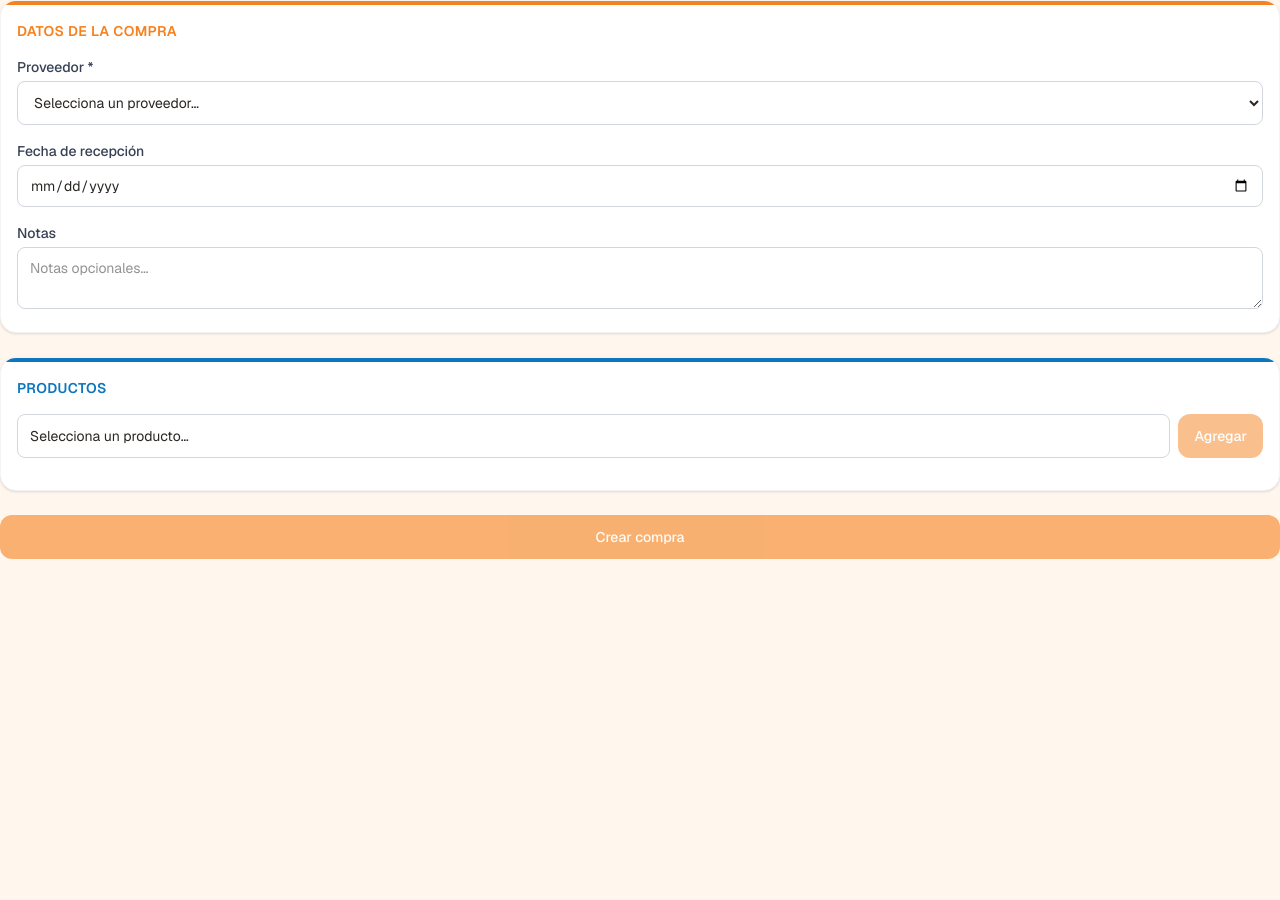
Scenario: PurchaseBuilder — add product › adds a row with product name when Agregar is clicked
Click the button with aria-label "agregar producto" at (109, 436), box [17,414,1170,458]
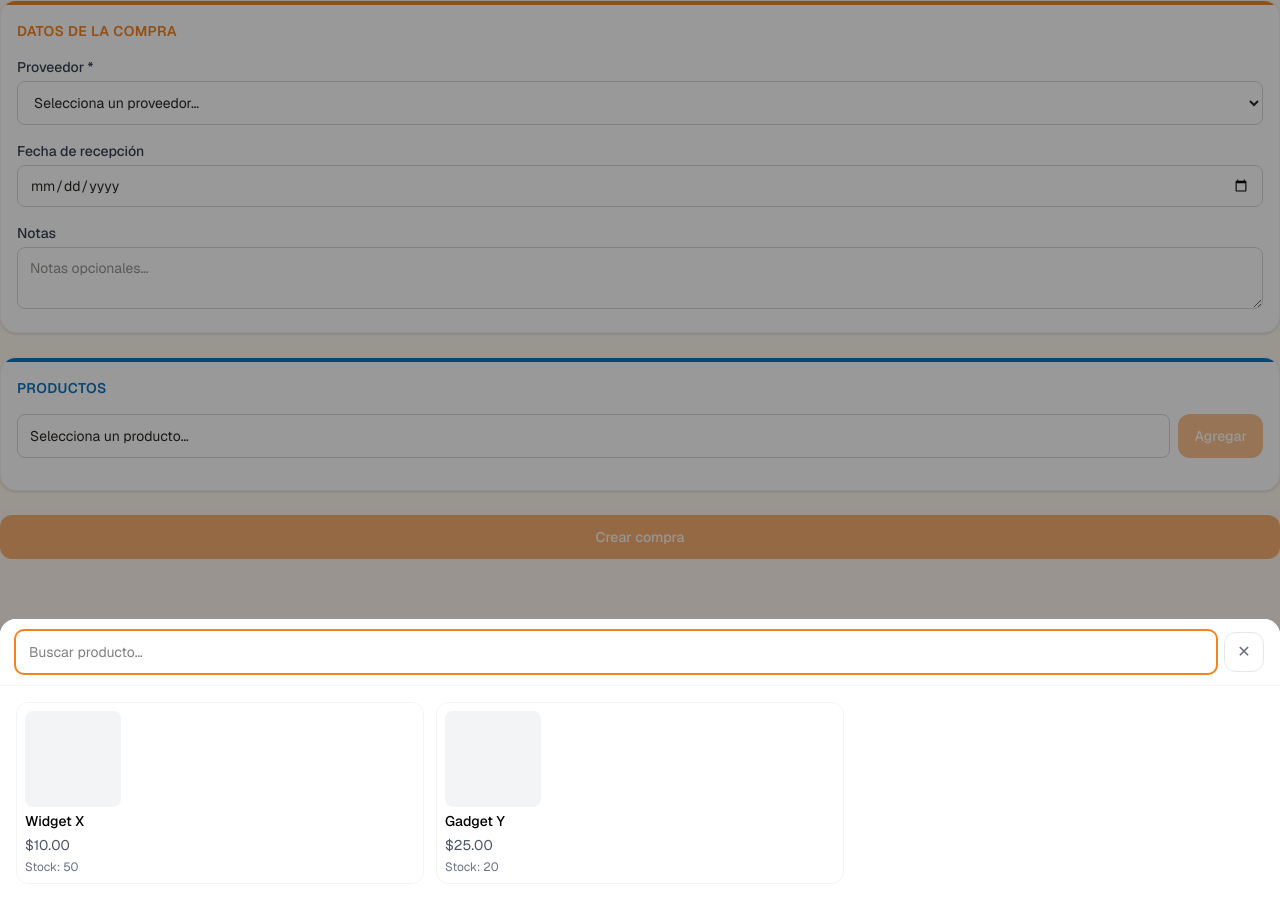
Click the button "Widget X $10.00 Stock: 50" at (73, 759), box [16,702,424,884]
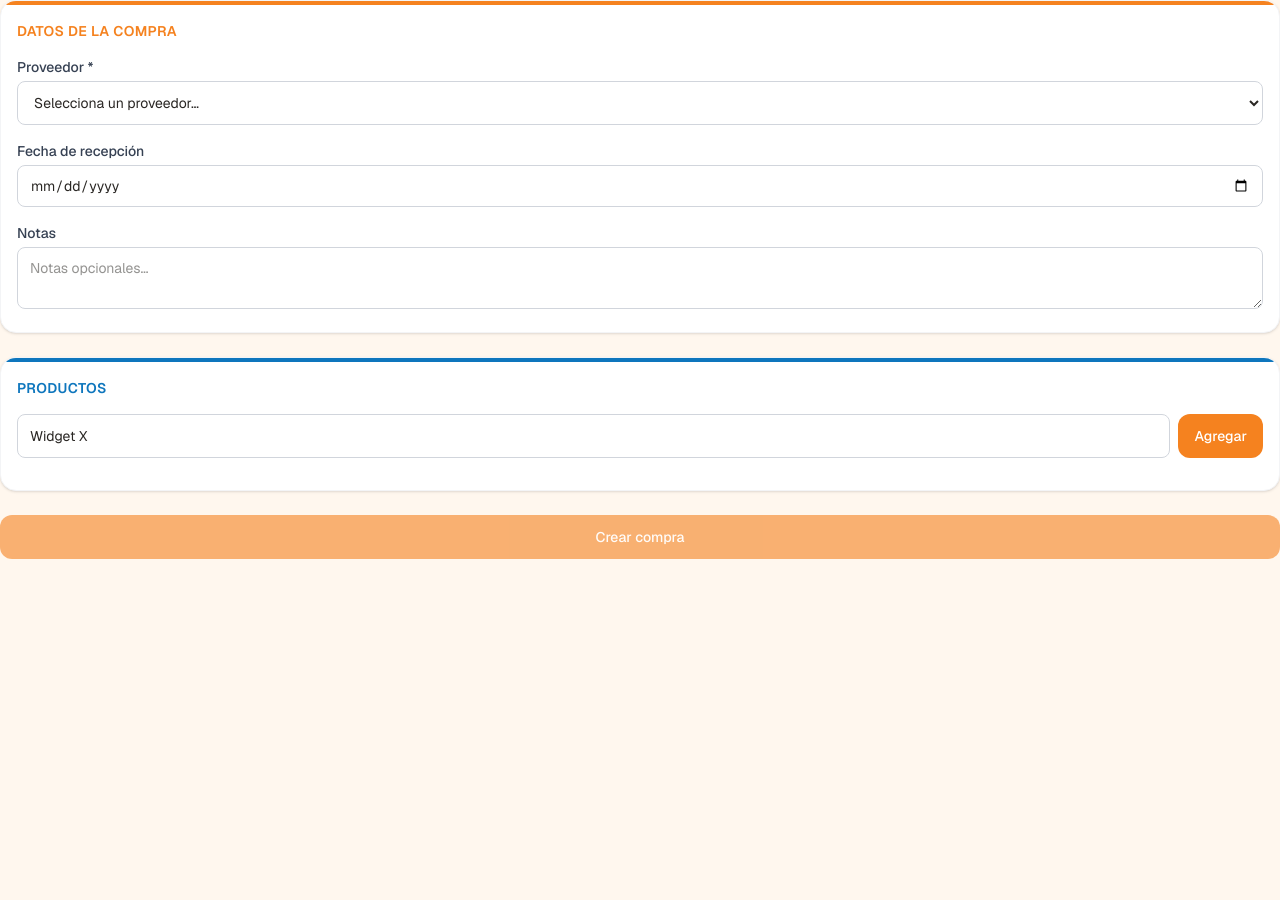
Click the button "Agregar" at (1221, 436), box [1178,414,1263,458]
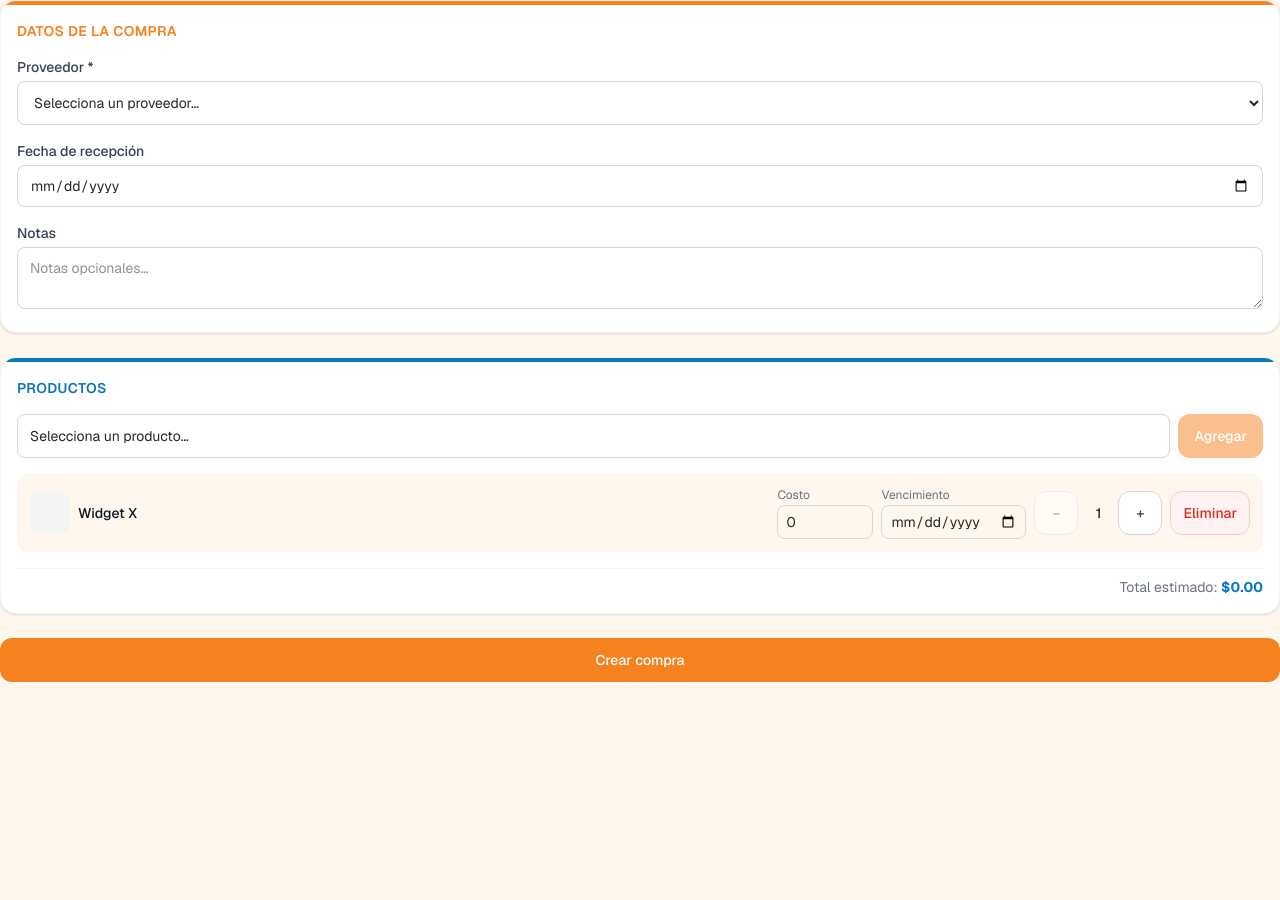
Check: the list named "purchase items" is shown, box [17,474,1263,552]
